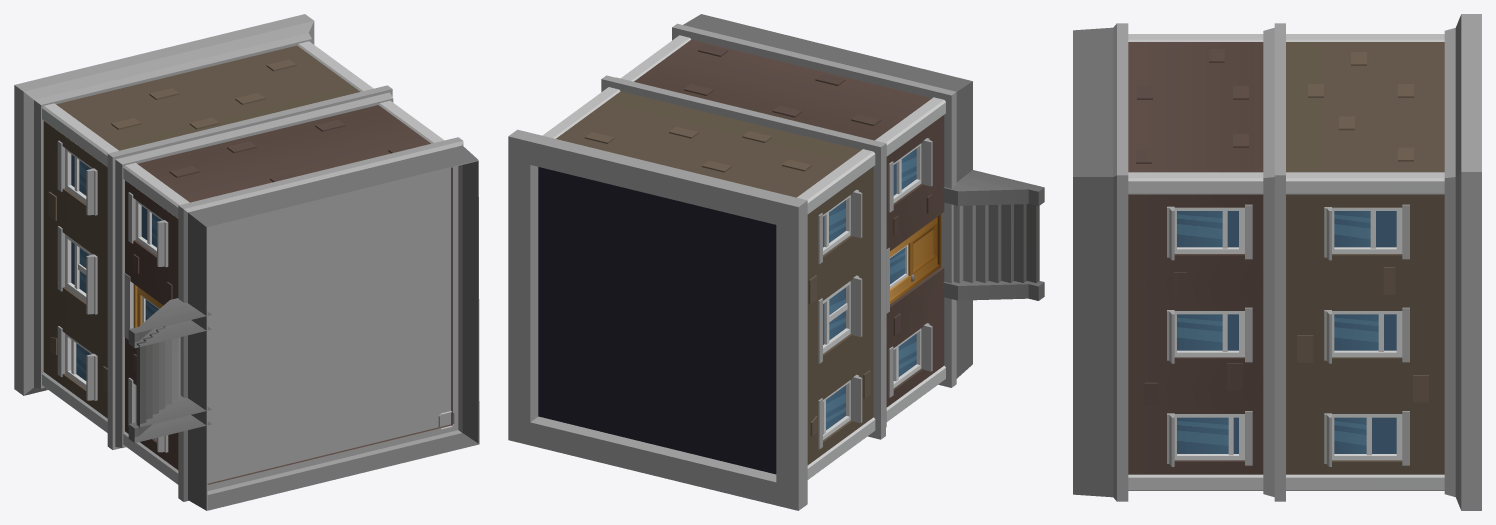
File: Building_2_1_G.fbx
3 views of the same model, side by side, from view 1: azimuth 30°, elevation 25°; view 2: azimuth 150°, elevation 25°; view 3: azimuth 270°, elevation 25° (orthographic). The views are drawn at different scales.
Parts seen in each view (by area): view 1: Building_2_1_G; view 2: Building_2_1_G; view 3: Building_2_1_G.
Boxes of the visible parts, box(x1,y1,x2,y2) form: Building_2_1_G: box(14, 14, 479, 510); Building_2_1_G: box(508, 14, 1044, 510); Building_2_1_G: box(1073, 14, 1481, 510).
Size of the model in its own units: 755 by 620 by 678.
